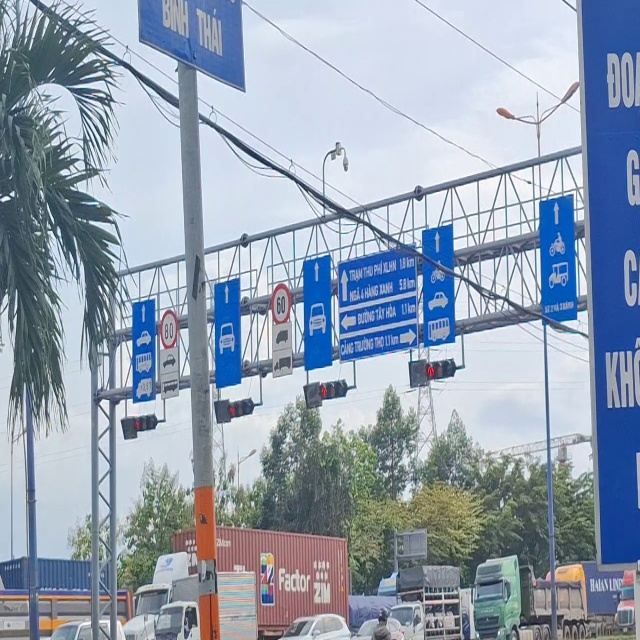toc do toi da 60km/h: (260, 272, 303, 328)
